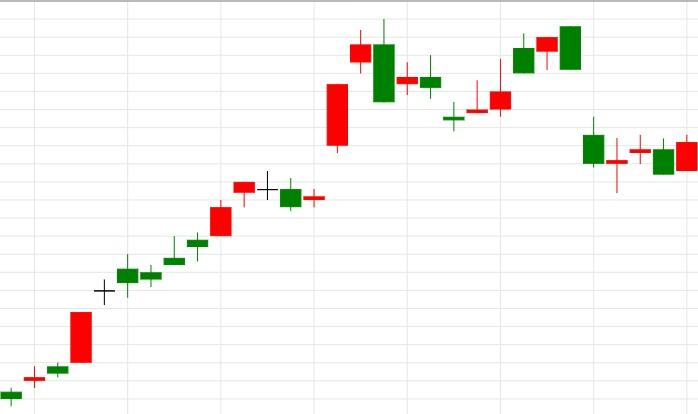bearish_engulfing_fall: (0, 20, 395, 406), (442, 25, 582, 132)
